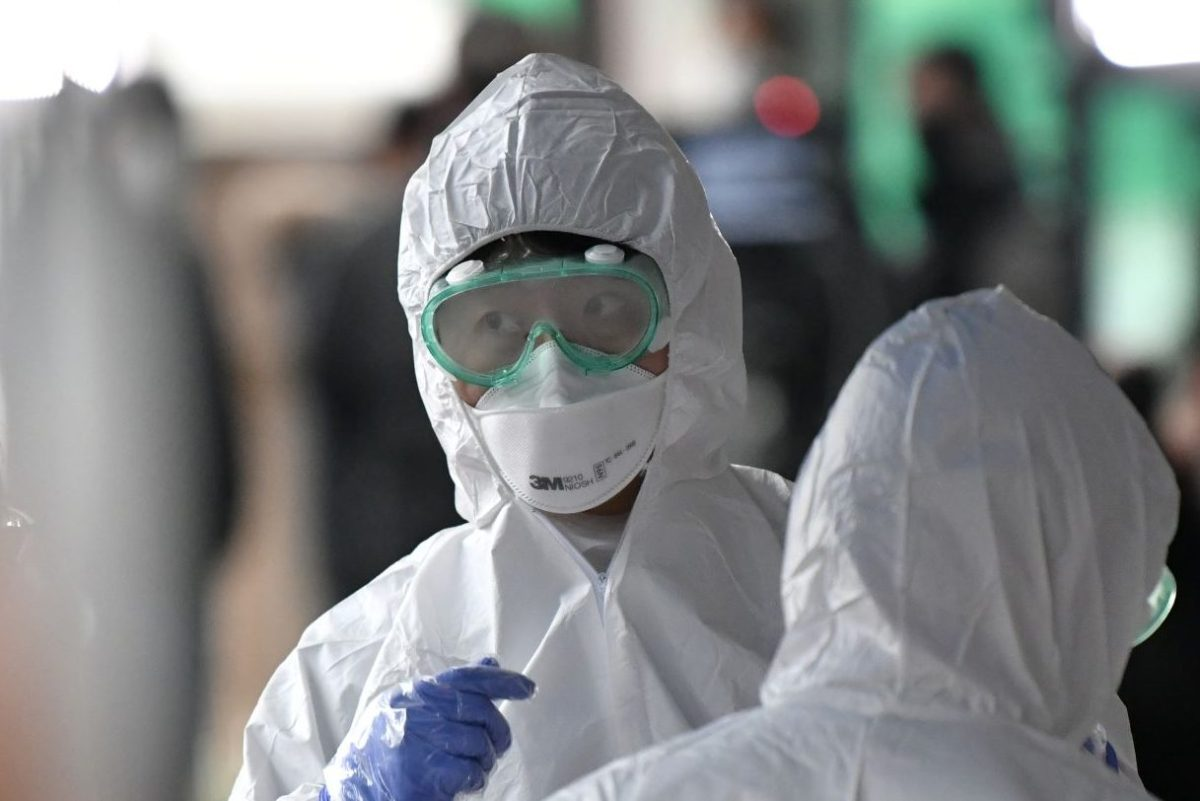n95: (463, 334, 674, 519)
